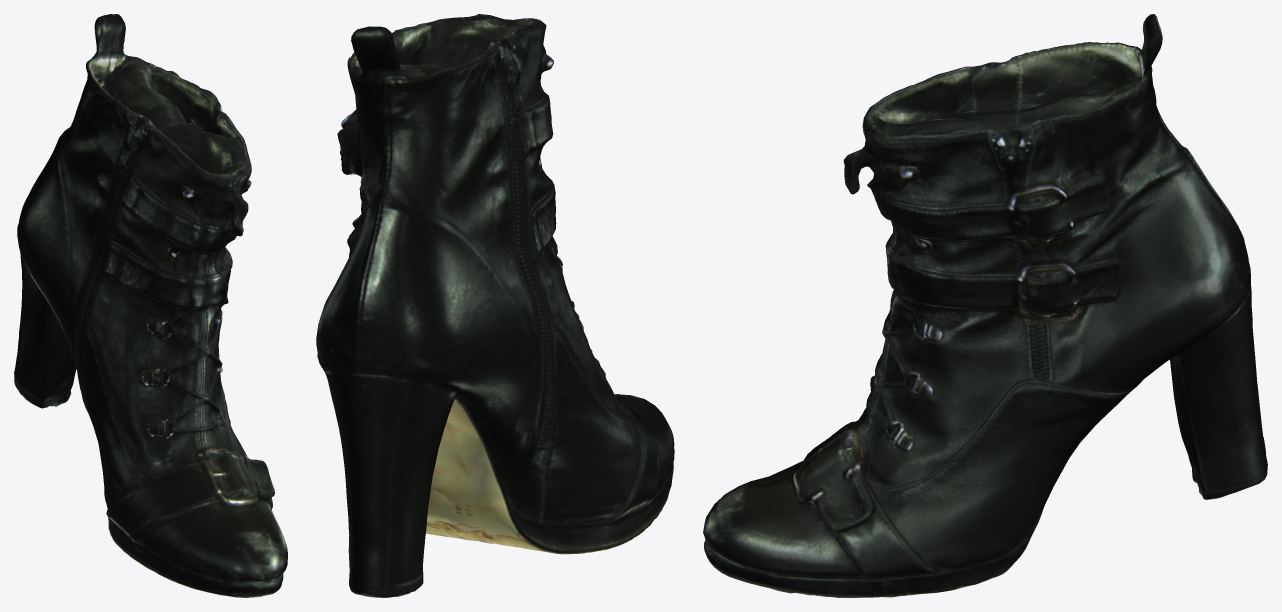
File: boot.glb
The picture shows the model from 3 angles, left to right: view 1: azimuth 30°, elevation 25°; view 2: azimuth 150°, elevation 25°; view 3: azimuth 270°, elevation 25°; orthographic projection. The views are drawn at different scales.
Visible parts, largest first — view 1: footwear-boot-0; view 2: footwear-boot-0; view 3: footwear-boot-0.
Part boxes in pixels (x1=…): footwear-boot-0: x1=14, y1=14, x2=287, y2=597; footwear-boot-0: x1=316, y1=14, x2=674, y2=597; footwear-boot-0: x1=703, y1=14, x2=1267, y2=597.
Size of the model in its own units: 0.103 by 0.2745 by 0.25.
1 material, 1 textured.
